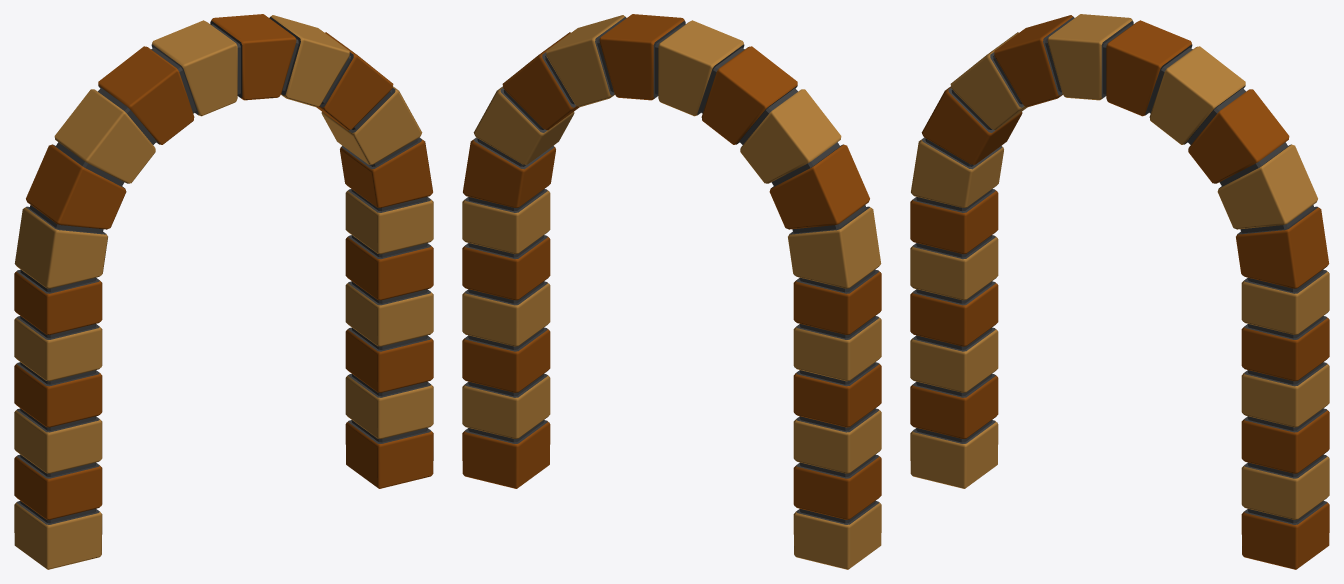
Rendered from WallBrickArch.FBX.
3 views of the same model, side by side, from view 1: azimuth 30°, elevation 25°; view 2: azimuth 150°, elevation 25°; view 3: azimuth 330°, elevation 25° (orthographic).
Visible parts, largest first — view 1: Tube002; view 2: Tube002; view 3: Tube002.
Boxes of the visible parts, x1=… form: Tube002: x1=14, y1=14, x2=433, y2=569; Tube002: x1=462, y1=14, x2=881, y2=569; Tube002: x1=910, y1=14, x2=1329, y2=569.
Bounding box in the file's own units: 1741 × 2062 × 264.
